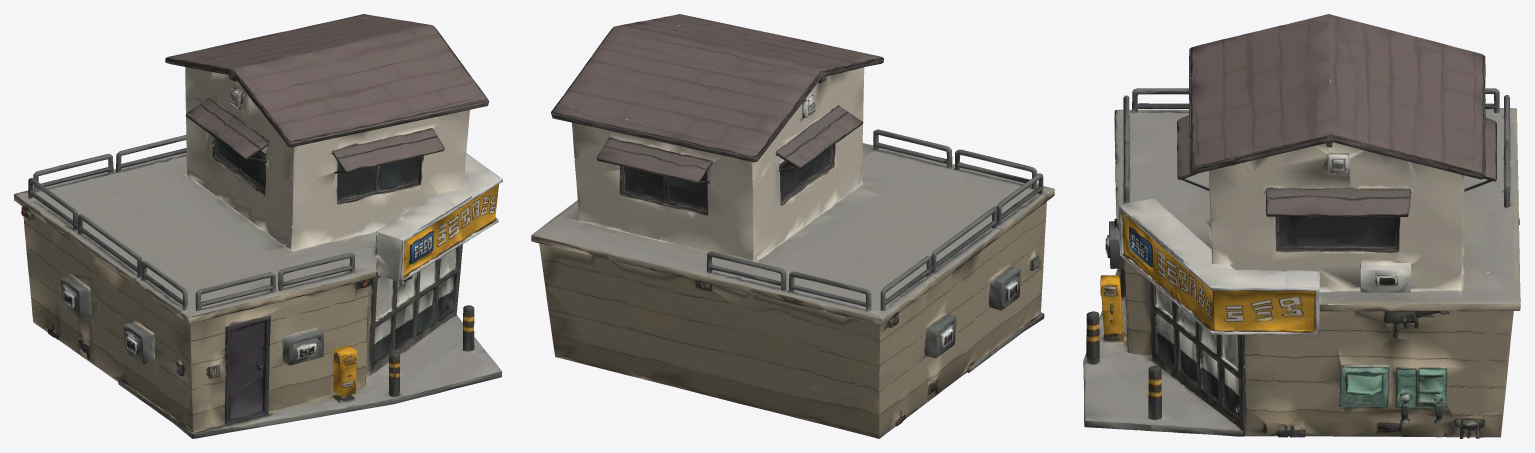
File: building5.glb
The picture shows the model from 3 angles, left to right: view 1: azimuth 30°, elevation 25°; view 2: azimuth 150°, elevation 25°; view 3: azimuth 270°, elevation 25°; orthographic projection. The views are drawn at different scales.
Visible parts, largest first — view 1: tripo_node_78437666-8772-4c20-95e0-9f422779b059; view 2: tripo_node_78437666-8772-4c20-95e0-9f422779b059; view 3: tripo_node_78437666-8772-4c20-95e0-9f422779b059.
Boxes of the visible parts, bbox=[...] form: tripo_node_78437666-8772-4c20-95e0-9f422779b059: bbox=[14, 14, 502, 438]; tripo_node_78437666-8772-4c20-95e0-9f422779b059: bbox=[531, 14, 1054, 438]; tripo_node_78437666-8772-4c20-95e0-9f422779b059: bbox=[1083, 14, 1520, 438].
Bounding box in the file's own units: 0.9998 × 0.7173 × 0.8819.
1 material, 1 textured.
